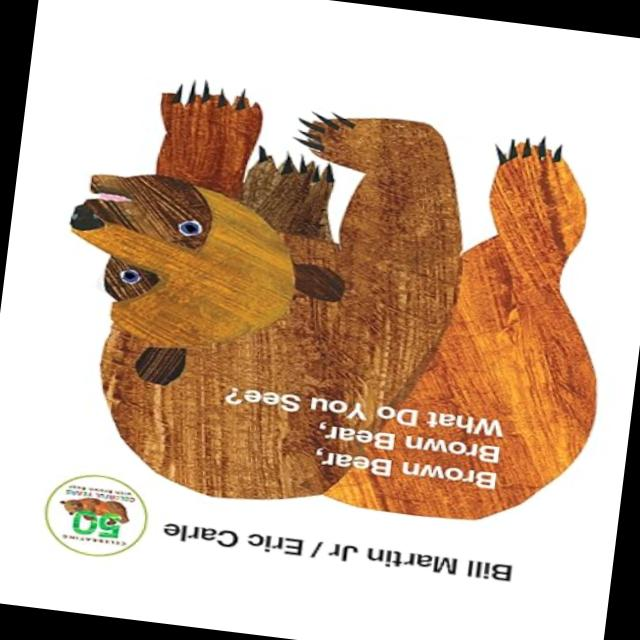titles-or-authors: (207, 377, 513, 496), (148, 510, 526, 592)
